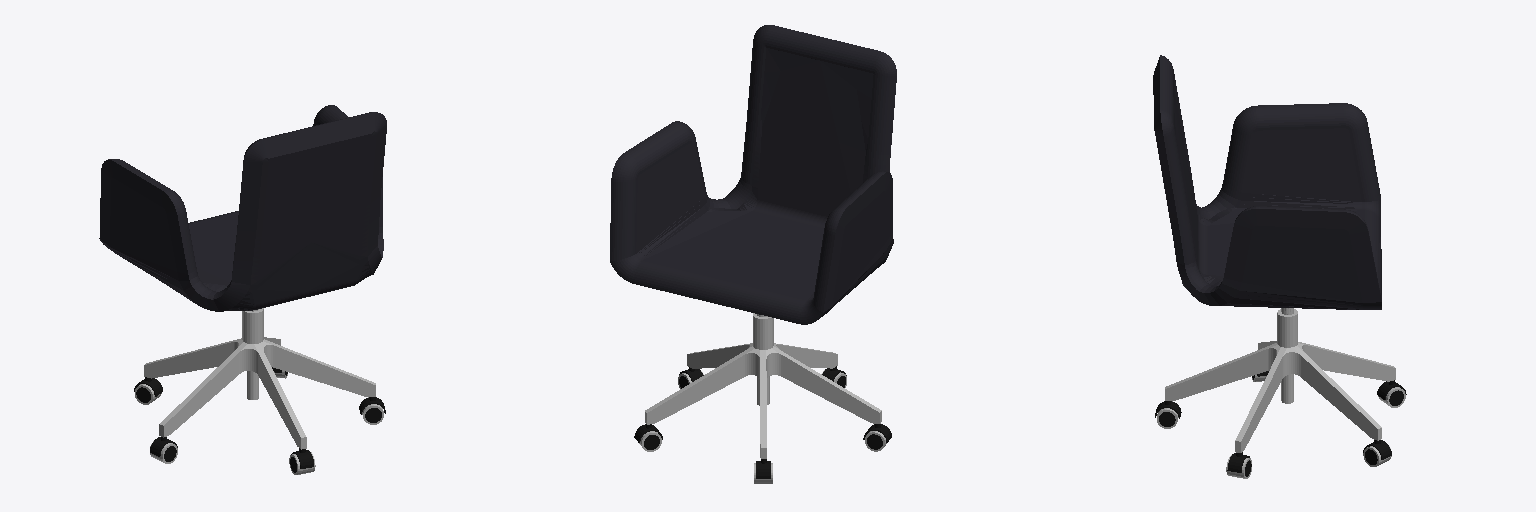
The picture shows the model from 3 angles: view 1: azimuth 30°, elevation 25°; view 2: azimuth 150°, elevation 25°; view 3: azimuth 270°, elevation 25°; orthographic projection.
Visible parts, largest first — view 1: Mesh22 Group19 Patrik_kontorsstol1 Model, Mesh17 Patrik_ben4 Group3 Group1 Patrik_kontorsstol1 Model, Mesh13 Patrik_ben3 Group3 Group1 Patrik_kontorsstol1 Model, Mesh9 Patrik_ben2 Group3 Group1 Patrik_kontorsstol1 Model, Mesh5 Patrik_ben1 Group3 Group1 Patrik_kontorsstol1 Model, Mesh1 Group2 Group1 Patrik_kontorsstol1 Model; view 2: Mesh22 Group19 Patrik_kontorsstol1 Model, Mesh13 Patrik_ben3 Group3 Group1 Patrik_kontorsstol1 Model, Mesh21 Patrik_ben5 Group3 Group1 Patrik_kontorsstol1 Model, Mesh5 Patrik_ben1 Group3 Group1 Patrik_kontorsstol1 Model, Mesh17 Patrik_ben4 Group3 Group1 Patrik_kontorsstol1 Model, Mesh1 Group2 Group1 Patrik_kontorsstol1 Model, Mesh9 Patrik_ben2 Group3 Group1 Patrik_kontorsstol1 Model; view 3: Mesh22 Group19 Patrik_kontorsstol1 Model, Mesh21 Patrik_ben5 Group3 Group1 Patrik_kontorsstol1 Model, Mesh9 Patrik_ben2 Group3 Group1 Patrik_kontorsstol1 Model, Mesh5 Patrik_ben1 Group3 Group1 Patrik_kontorsstol1 Model, Mesh17 Patrik_ben4 Group3 Group1 Patrik_kontorsstol1 Model, Mesh1 Group2 Group1 Patrik_kontorsstol1 Model.
Boxes of the visible parts, box(x1,y1,x2,y2) form: Mesh22 Group19 Patrik_kontorsstol1 Model: box(99, 105, 386, 311); Mesh17 Patrik_ben4 Group3 Group1 Patrik_kontorsstol1 Model: box(260, 339, 375, 397); Mesh13 Patrik_ben3 Group3 Group1 Patrik_kontorsstol1 Model: box(159, 340, 246, 437); Mesh9 Patrik_ben2 Group3 Group1 Patrik_kontorsstol1 Model: box(239, 343, 306, 449); Mesh5 Patrik_ben1 Group3 Group1 Patrik_kontorsstol1 Model: box(144, 338, 241, 378); Mesh1 Group2 Group1 Patrik_kontorsstol1 Model: box(242, 308, 263, 399); Mesh22 Group19 Patrik_kontorsstol1 Model: box(610, 25, 896, 324); Mesh13 Patrik_ben3 Group3 Group1 Patrik_kontorsstol1 Model: box(766, 346, 881, 423); Mesh21 Patrik_ben5 Group3 Group1 Patrik_kontorsstol1 Model: box(645, 344, 754, 424); Mesh5 Patrik_ben1 Group3 Group1 Patrik_kontorsstol1 Model: box(743, 349, 766, 458); Mesh17 Patrik_ben4 Group3 Group1 Patrik_kontorsstol1 Model: box(687, 343, 752, 368); Mesh1 Group2 Group1 Patrik_kontorsstol1 Model: box(753, 313, 773, 405); Mesh9 Patrik_ben2 Group3 Group1 Patrik_kontorsstol1 Model: box(774, 343, 837, 368); Mesh22 Group19 Patrik_kontorsstol1 Model: box(1153, 55, 1381, 309); Mesh21 Patrik_ben5 Group3 Group1 Patrik_kontorsstol1 Model: box(1282, 346, 1381, 440); Mesh9 Patrik_ben2 Group3 Group1 Patrik_kontorsstol1 Model: box(1165, 343, 1277, 401); Mesh5 Patrik_ben1 Group3 Group1 Patrik_kontorsstol1 Model: box(1297, 342, 1395, 381); Mesh17 Patrik_ben4 Group3 Group1 Patrik_kontorsstol1 Model: box(1235, 345, 1286, 452); Mesh1 Group2 Group1 Patrik_kontorsstol1 Model: box(1277, 308, 1297, 403).
Bounding box in the file's own units: 0.5584 × 0.8194 × 0.5413.